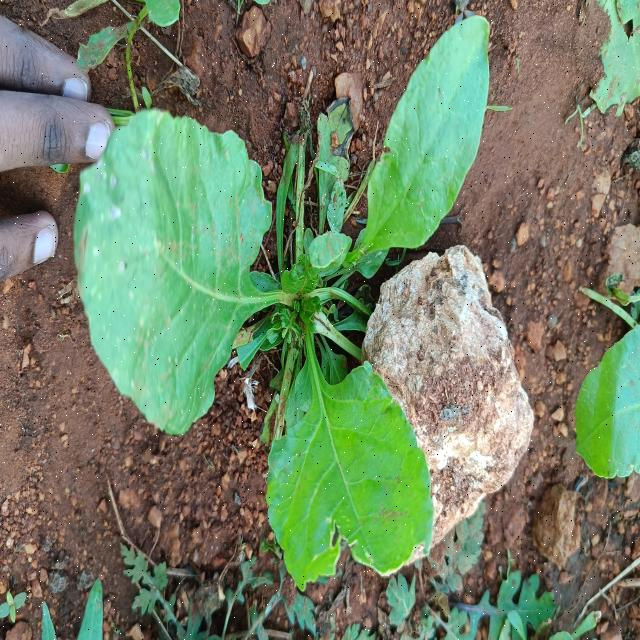leaves: (66, 80, 306, 442), (235, 262, 440, 640), (316, 10, 514, 297)
